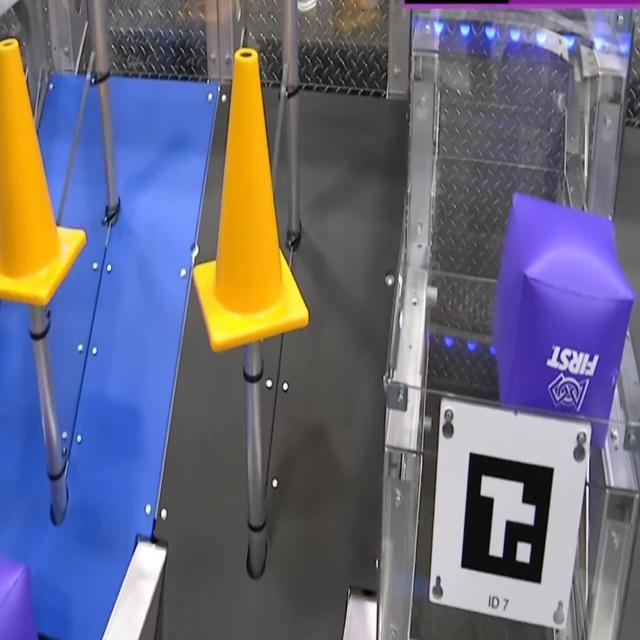frc_cone: (192, 43, 310, 350), (0, 42, 88, 309)
frc_cube: (491, 195, 640, 446), (0, 537, 42, 640)
